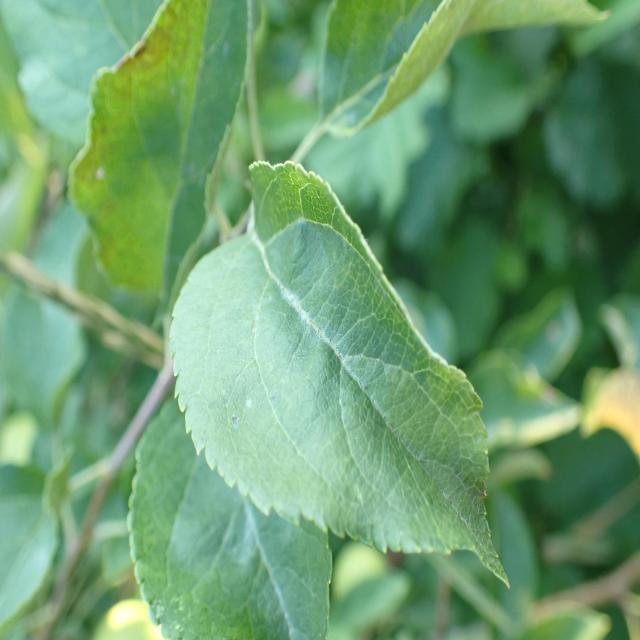Powdery_mildew: (235, 199, 351, 390)
